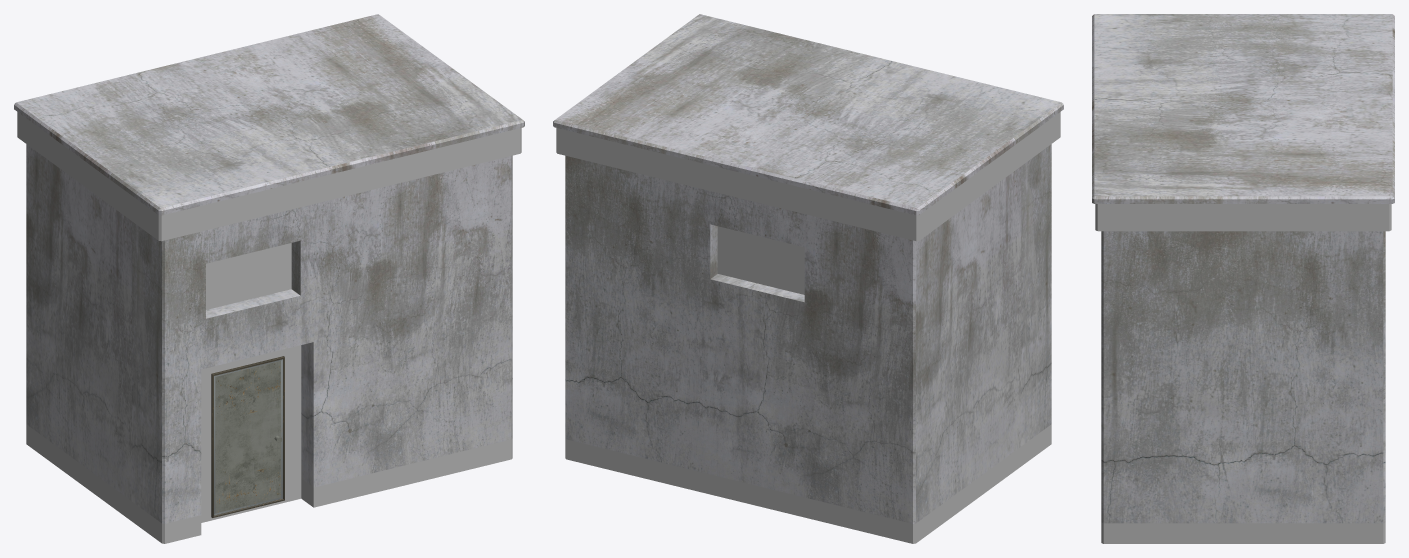
The model's file is rooftopexit_04.fbx.
The picture shows the model from 3 angles, left to right: view 1: azimuth 30°, elevation 25°; view 2: azimuth 150°, elevation 25°; view 3: azimuth 270°, elevation 25°; orthographic projection. The views are drawn at different scales.
Parts seen in each view (by area): view 1: rooftopexit_04; view 2: rooftopexit_04; view 3: rooftopexit_04.
Boxes of the visible parts, box(x1,y1,x2,y2) form: rooftopexit_04: box(14, 14, 524, 543); rooftopexit_04: box(553, 14, 1063, 543); rooftopexit_04: box(1092, 14, 1394, 543).
Size of the model in its own units: 559 by 496 by 389.
